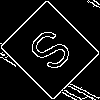S: (25, 25, 82, 82)
